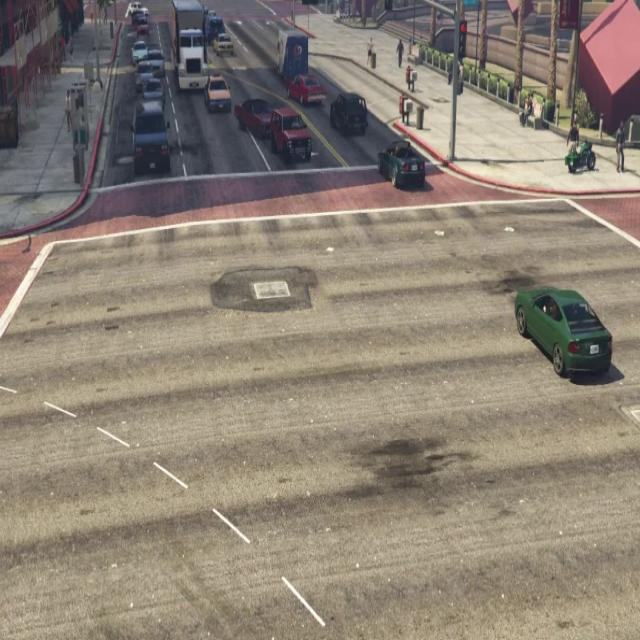Red-Signal: (456, 12, 469, 72), (382, 0, 397, 22), (299, 0, 322, 12)
